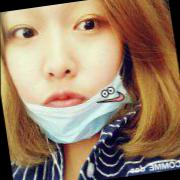WRONG: (1, 1, 148, 150)
